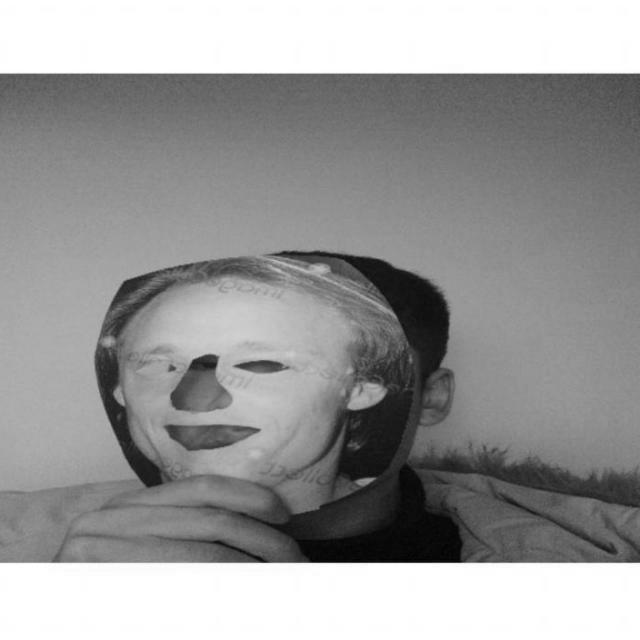fake: (88, 252, 416, 518)
